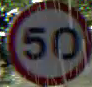Speed limit: (8, 2, 91, 84)
